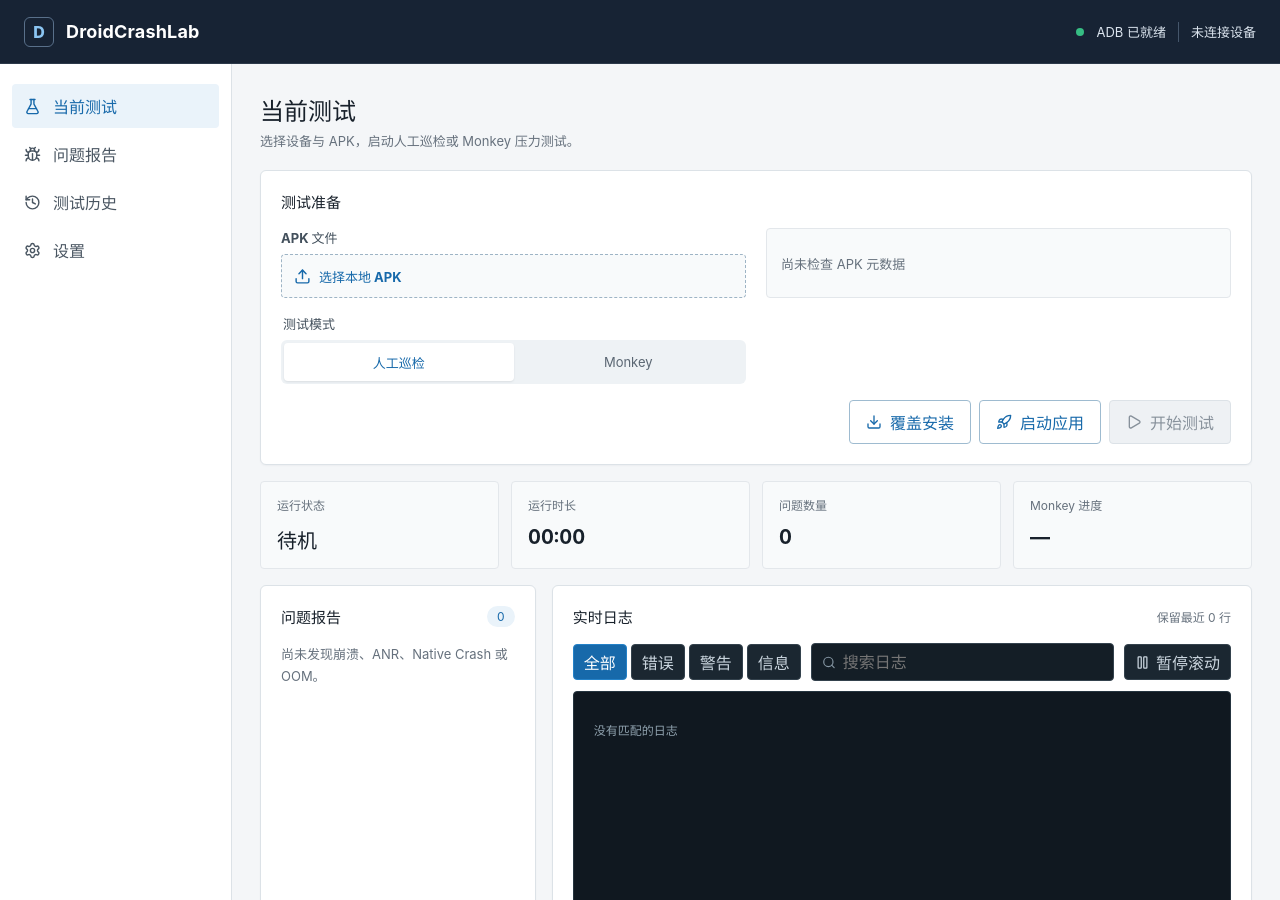
Scenario: App › shows a dedicated settings view instead of the current test dashboard
Step 1. Click the button "设置" → (116, 250), box [12,228,219,272]
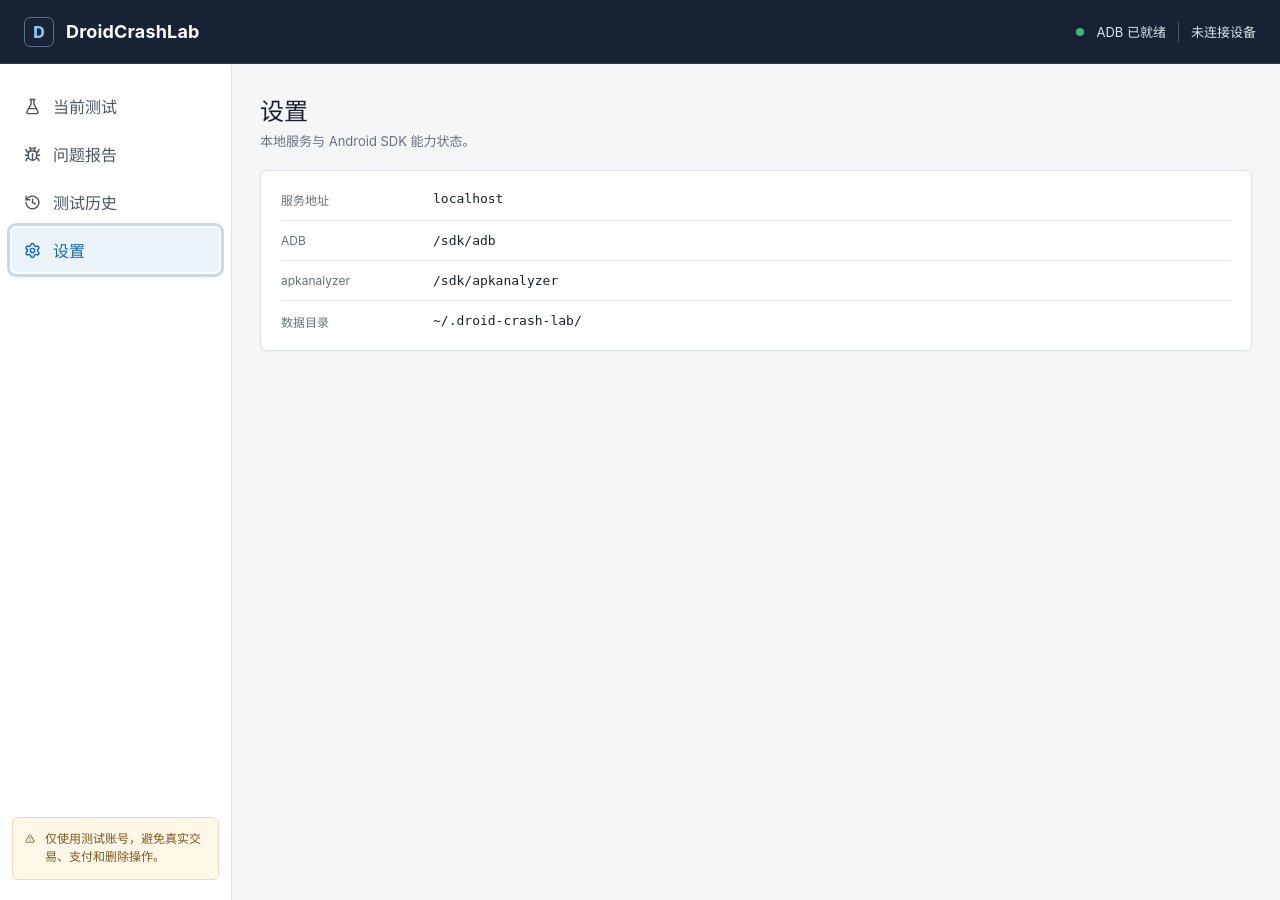
Check: the heading "设置" is shown, box [260,97,308,126]
Check: the text "本地服务与 Android SDK 能力状态。" is shown, box [260,131,476,150]
Check: the button "开始测试" is gone
